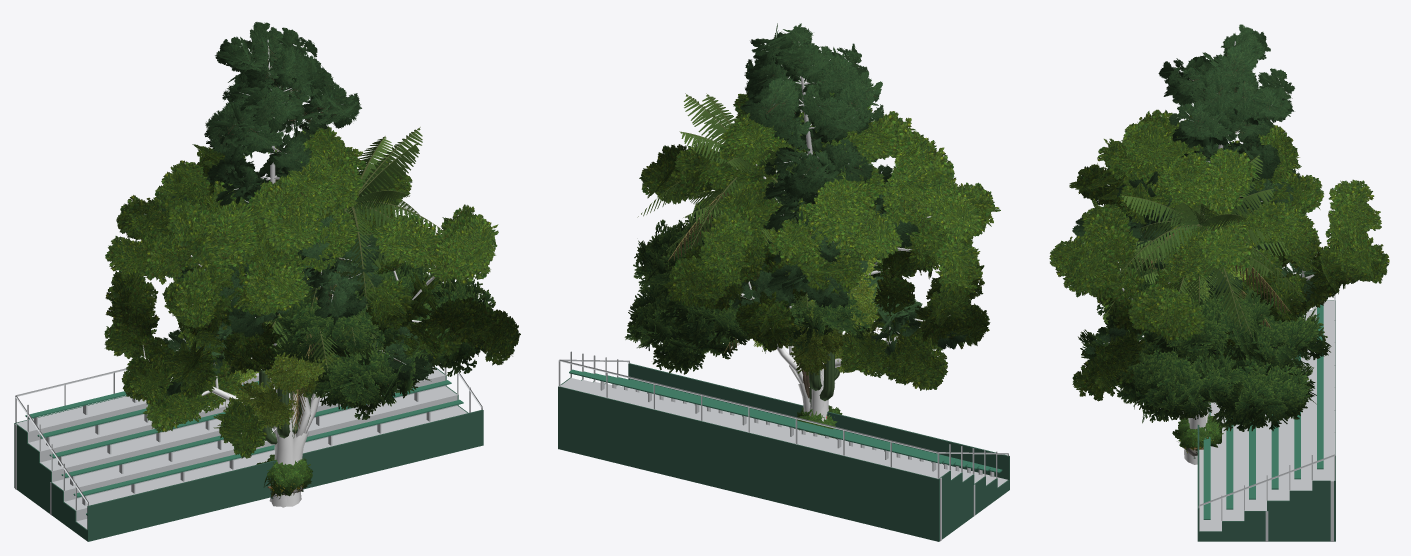
File: environment.glb
The picture shows the model from 3 angles, left to right: view 1: azimuth 30°, elevation 25°; view 2: azimuth 150°, elevation 25°; view 3: azimuth 270°, elevation 25°; orthographic projection. The views are drawn at different scales.
Parts seen in each view (by area): view 1: Tree_Oak_Leaves, Tree_Pine_Leaves, Grandstand_GrandstandSteel, Grandstand_GrandstandPanel, Tree_Cypress_Leaves, Tree_Palm_C_Fronds, Grandstand_GrandstandSeat, Tree_Birch_Leaves, Tree_Oak_Bark, Bush_Green_Leaves, Tree_Palm_B_Fronds, Tree_Cypress_Bark; view 2: Tree_Oak_Leaves, Grandstand_GrandstandPanel, Tree_Pine_Leaves, Tree_Cypress_Leaves, Grandstand_GrandstandSteel, Tree_Palm_C_Fronds, Grandstand_GrandstandSeat, Tree_Birch_Leaves, Tree_Palm_A_Fronds, Tree_Pine_Bark, Tree_Cypress_Bark; view 3: Tree_Oak_Leaves, Tree_Cypress_Leaves, Tree_Pine_Leaves, Grandstand_GrandstandSteel, Tree_Palm_C_Fronds, Grandstand_GrandstandPanel, Grandstand_GrandstandSeat, Tree_Palm_A_Fronds, Bush_Green_Leaves.
Boxes of the visible parts, left/top/right/bottom form: Tree_Oak_Leaves: left=104, top=126, right=520, bottom=458; Tree_Pine_Leaves: left=156, top=22, right=433, bottom=403; Grandstand_GrandstandSteel: left=15, top=366, right=482, bottom=529; Grandstand_GrandstandPanel: left=14, top=367, right=483, bottom=541; Tree_Cypress_Leaves: left=227, top=261, right=495, bottom=419; Tree_Palm_C_Fronds: left=268, top=127, right=458, bottom=310; Grandstand_GrandstandSeat: left=25, top=366, right=463, bottom=515; Tree_Birch_Leaves: left=219, top=256, right=344, bottom=429; Tree_Oak_Bark: left=140, top=214, right=435, bottom=506; Bush_Green_Leaves: left=256, top=454, right=312, bottom=496; Tree_Palm_B_Fronds: left=267, top=254, right=387, bottom=433; Tree_Cypress_Bark: left=269, top=378, right=363, bottom=507; Tree_Oak_Leaves: left=639, top=92, right=1000, bottom=390; Grandstand_GrandstandPanel: left=558, top=363, right=1009, bottom=541; Tree_Pine_Leaves: left=731, top=23, right=971, bottom=355; Tree_Cypress_Leaves: left=624, top=206, right=883, bottom=374; Grandstand_GrandstandSteel: left=558, top=351, right=1008, bottom=541; Tree_Palm_C_Fronds: left=637, top=93, right=806, bottom=260; Grandstand_GrandstandSeat: left=569, top=369, right=1002, bottom=473; Tree_Birch_Leaves: left=750, top=194, right=882, bottom=375; Tree_Palm_A_Fronds: left=666, top=159, right=806, bottom=253; Tree_Pine_Bark: left=773, top=41, right=924, bottom=415; Tree_Cypress_Bark: left=777, top=327, right=810, bottom=412; Tree_Oak_Leaves: left=1049, top=109, right=1389, bottom=401; Tree_Cypress_Leaves: left=1078, top=258, right=1331, bottom=431; Tree_Pine_Leaves: left=1072, top=24, right=1318, bottom=354; Grandstand_GrandstandSteel: left=1198, top=294, right=1335, bottom=541; Tree_Palm_C_Fronds: left=1106, top=154, right=1300, bottom=328; Grandstand_GrandstandPanel: left=1197, top=300, right=1335, bottom=541; Grandstand_GrandstandSeat: left=1203, top=304, right=1323, bottom=519; Tree_Palm_A_Fronds: left=1131, top=183, right=1298, bottom=337; Bush_Green_Leaves: left=1172, top=414, right=1223, bottom=451.
Bounding box in the file's own units: 16.47 × 18.3 × 13.36.
26 materials, 4 textured.
